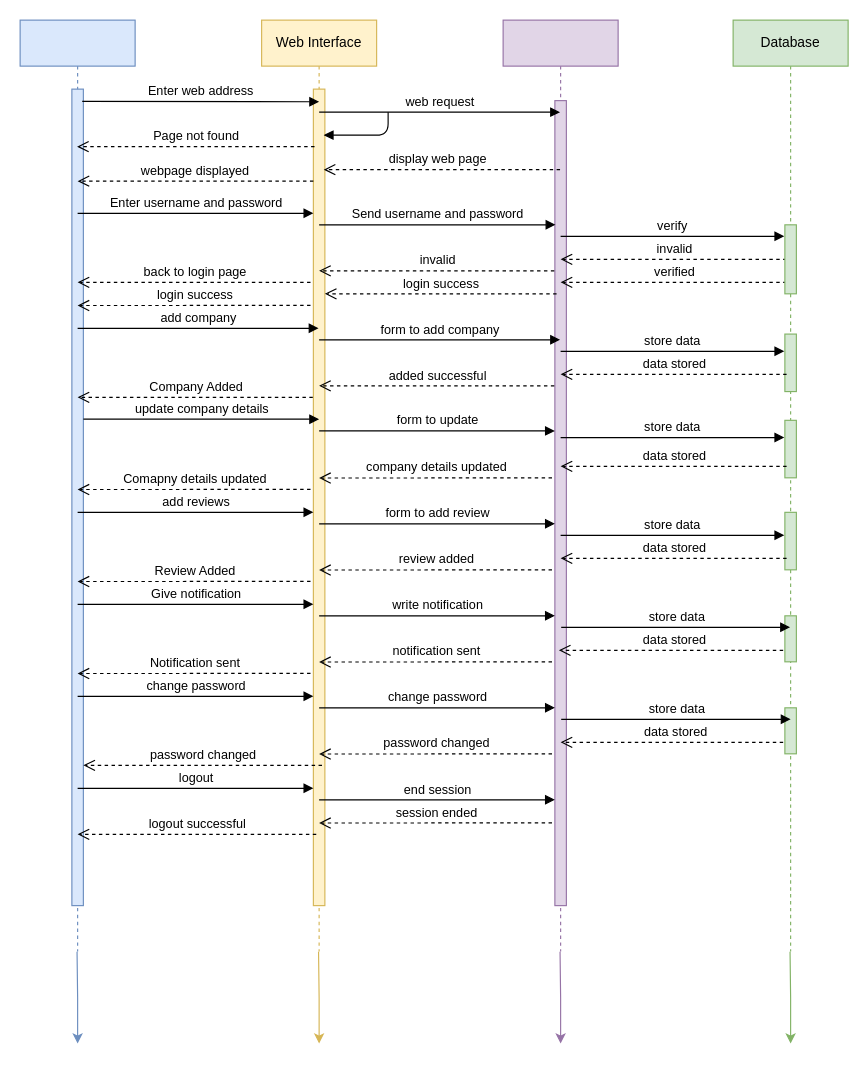
This 868x1073 diagram has some shape labels left out. The box of each missing label's shape, as (x1, y1, x2, y2) in pixels:
Superviser: (19, 19, 135, 952)
Web Server: (502, 19, 618, 952)
